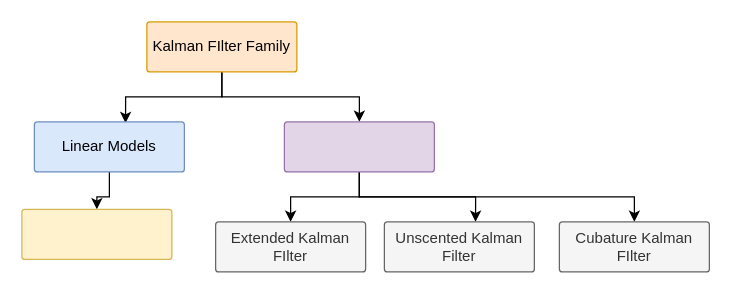
This 731x294 diagram has some shape labels left out. The shapes that lost their labels are listed below. From the top down, each one's box as (x1, y1, x2, y2) in pixels, then its label:
(283, 121, 434, 172): Non-Linear Models
(21, 208, 172, 259): Kalman FIlter
